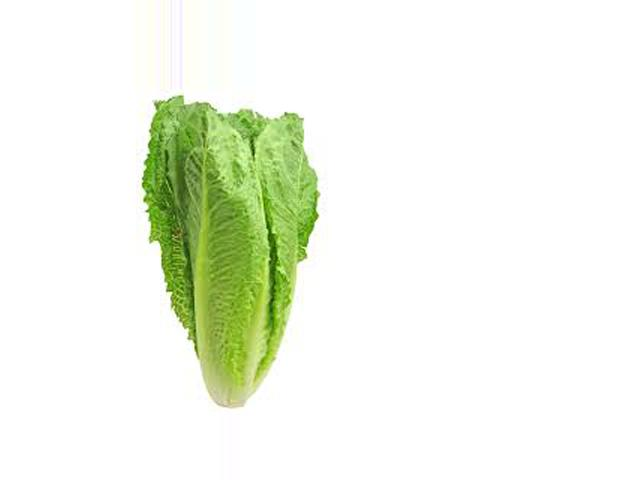lettuce: (132, 95, 340, 404)
